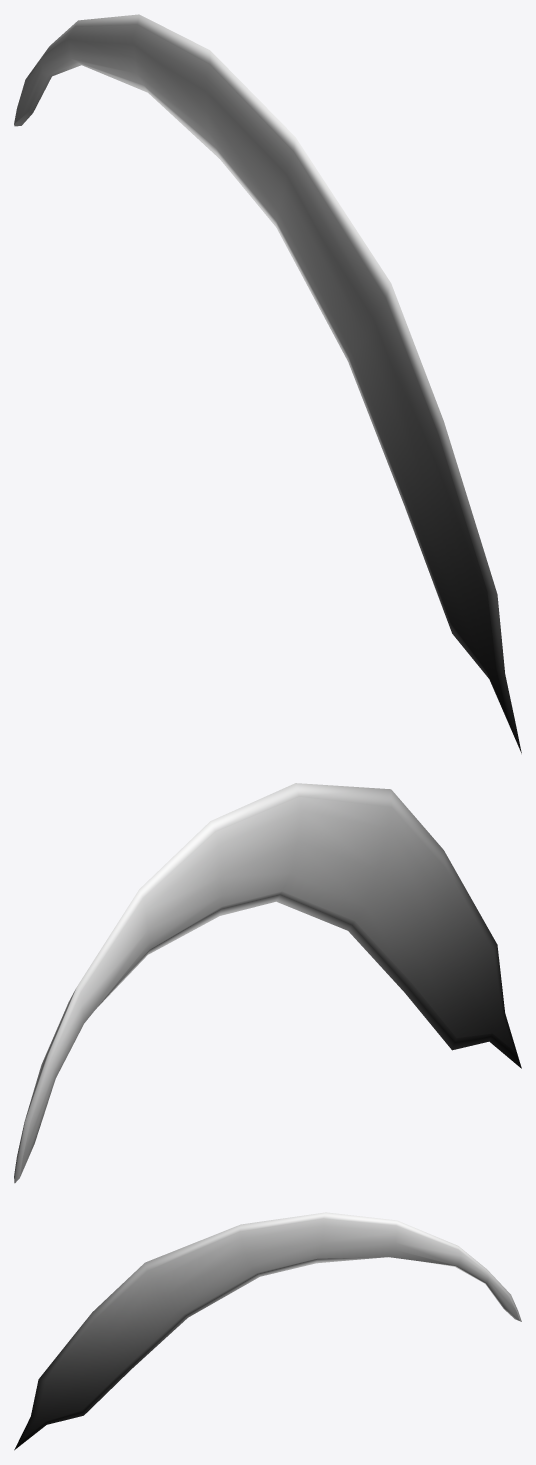
Rendered from Feather.FBX.
3 renders of one model, top to bottom at view 1: azimuth 30°, elevation 25°; view 2: azimuth 150°, elevation 25°; view 3: azimuth 270°, elevation 25°, orthographic. The views are drawn at different scales.
Parts seen in each view (by area): view 1: Feather001; view 2: Feather001; view 3: Feather001.
Boxes of the visible parts, x1,y1,x2,y2 form: Feather001: (14,14,521,753); Feather001: (14,783,521,1183); Feather001: (14,1212,521,1450).
Size of the model in its own units: 0.7044 by 24.4 by 47.14.
1 material, 1 textured.
